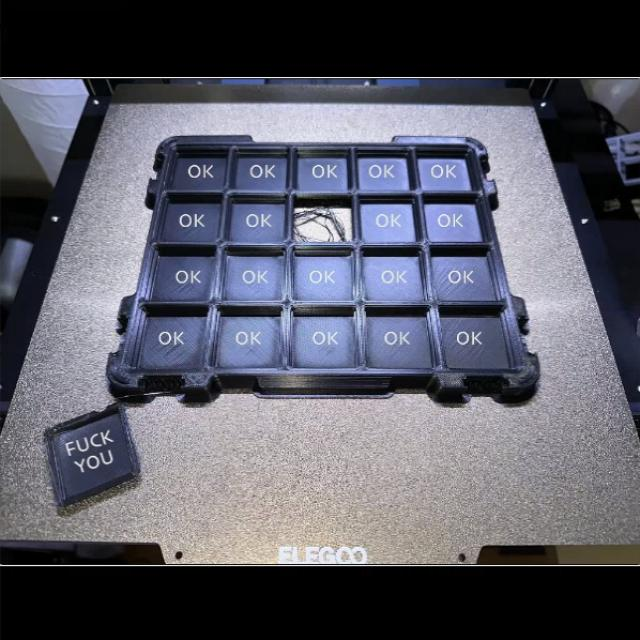spaghetti: (292, 200, 354, 250)
